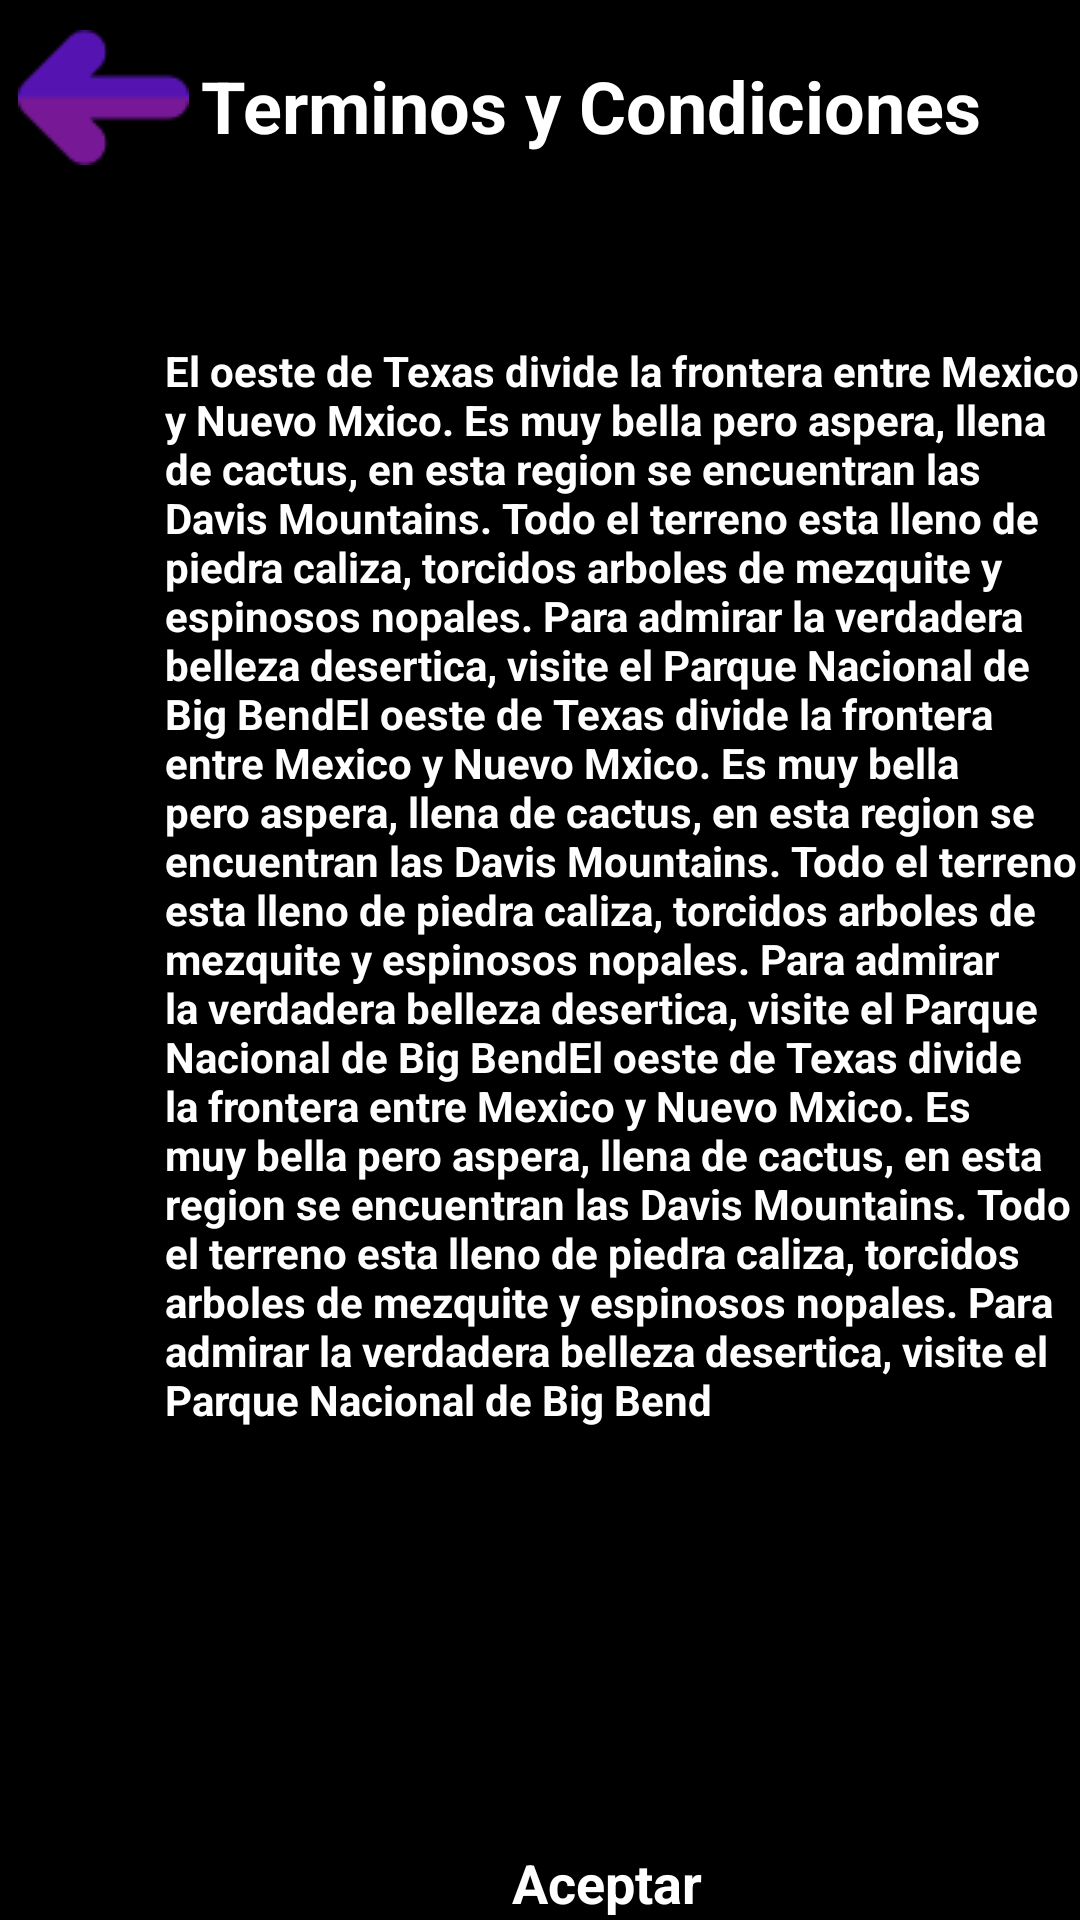

Named icons in this screenshot (1080 × 1920) and their centers, (x,y):
atras ek: (103,97)
